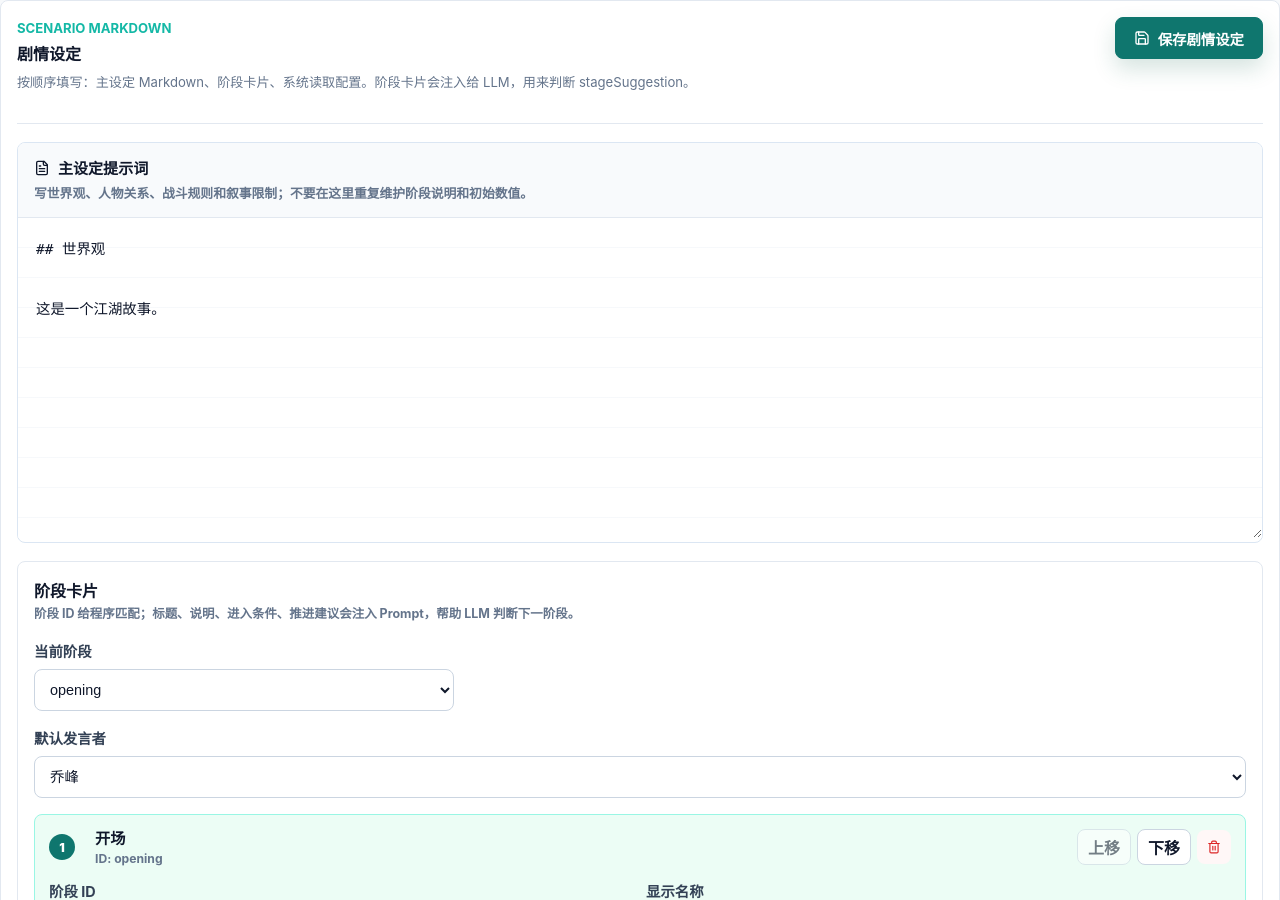
Test: StorySettingPanel › removes a stage card
The width and height of the screenshot is (1280, 900).
Expected: the text "开场" is shown, [95,828,125,848]
Click the button named "删除阶段 opening" at (1214, 847), box [1197,830,1231,864]
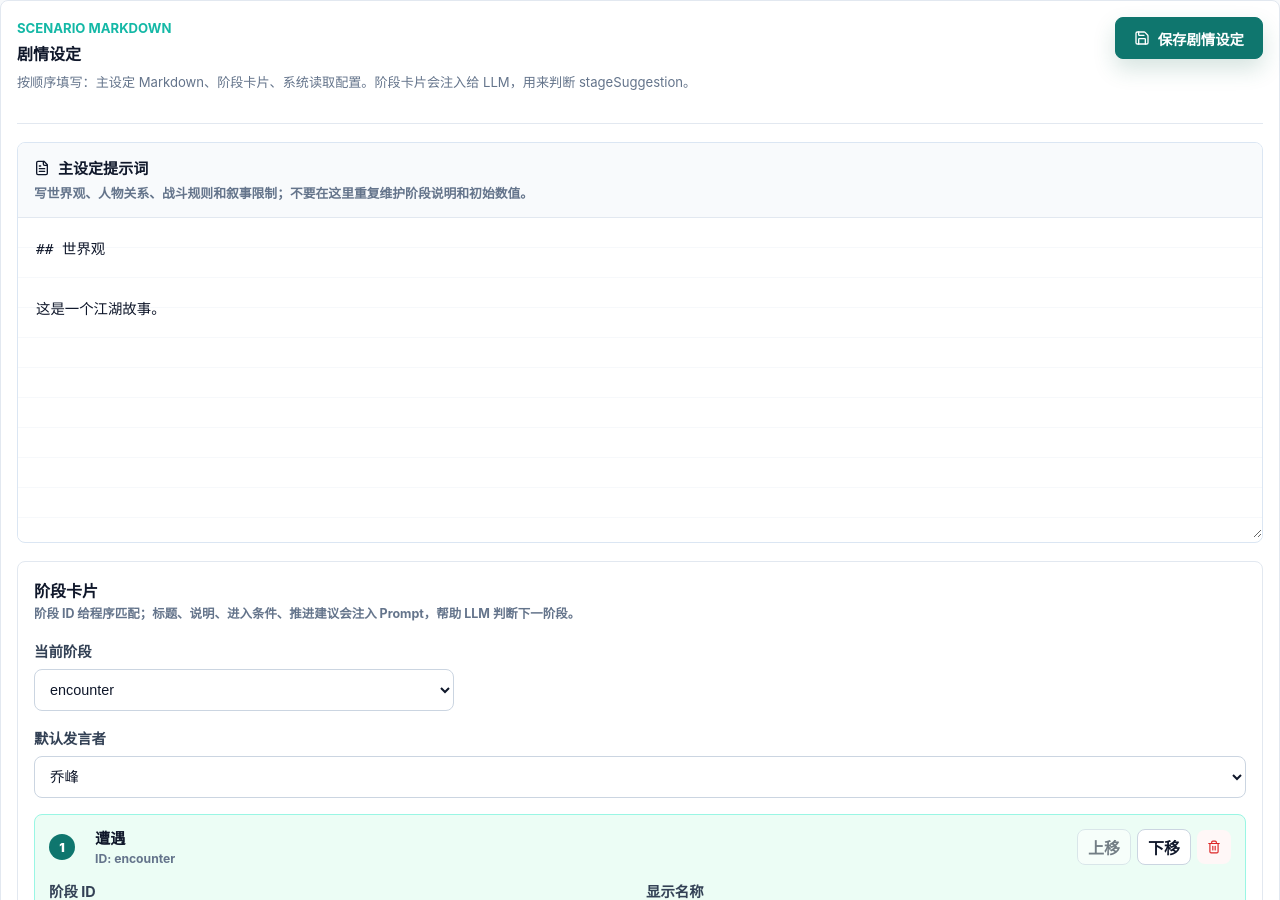
Now the text "开场" is gone
